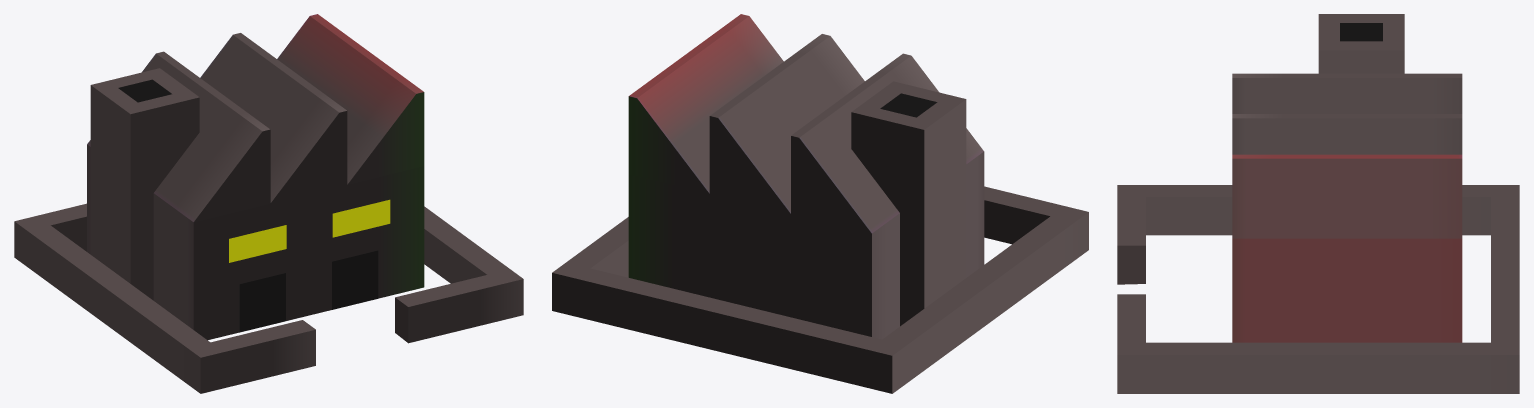
File: Factory.NoirEclipse.glb
3 renders of one model, left to right at view 1: azimuth 30°, elevation 25°; view 2: azimuth 150°, elevation 25°; view 3: azimuth 270°, elevation 25°, orthographic. The views are drawn at different scales.
Visible parts, largest first — view 1: Factory.NoirEclipse; view 2: Factory.NoirEclipse; view 3: Factory.NoirEclipse.
Boxes of the visible parts, x1,y1,x2,y2 form: Factory.NoirEclipse: (14, 14, 523, 393); Factory.NoirEclipse: (552, 14, 1088, 393); Factory.NoirEclipse: (1117, 14, 1519, 393).
Bounding box in the file's own units: 2.8 × 1.71 × 2.8.
Materials: 2 (1 with a texture image).
